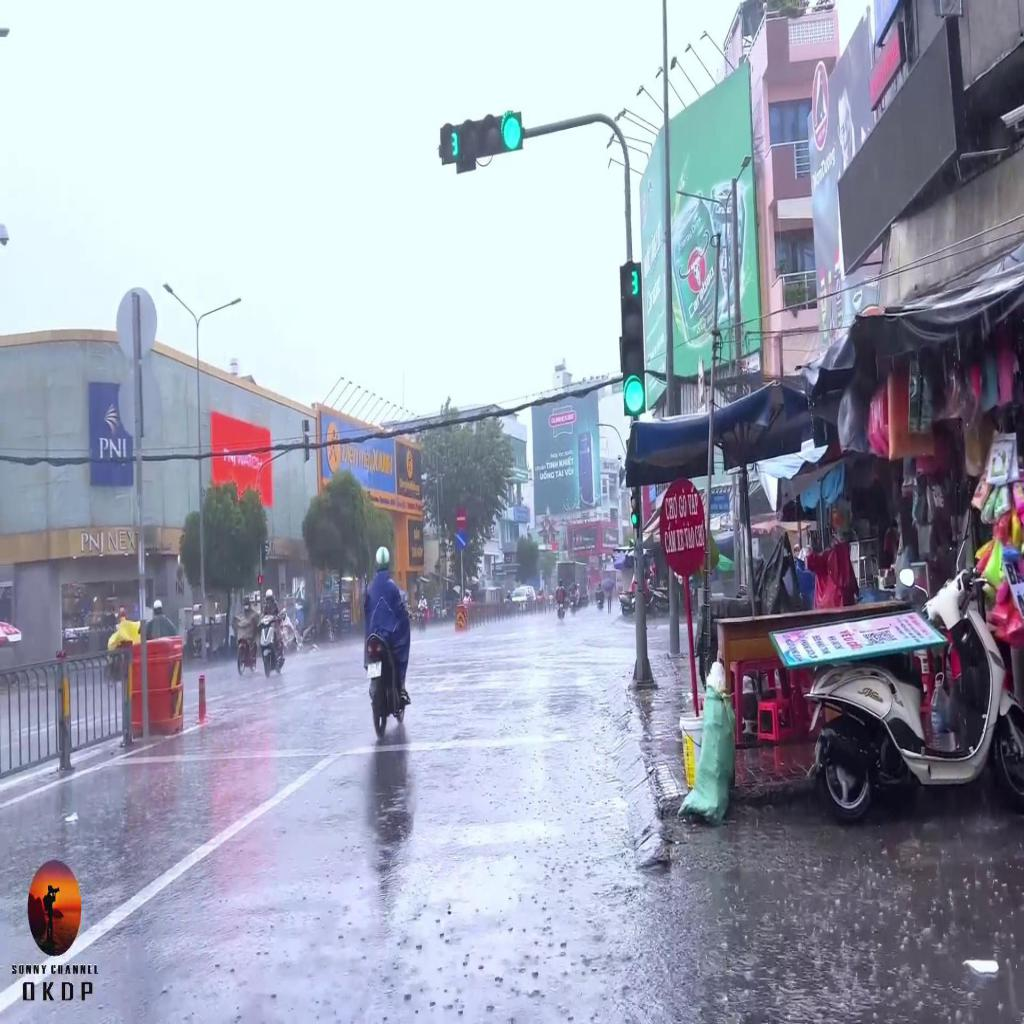cam_xe_di_nguoc_chieu: (456, 507, 467, 528)
huong_phai_di_vuot_chuong_ngai_vat_phai: (456, 531, 466, 550)
